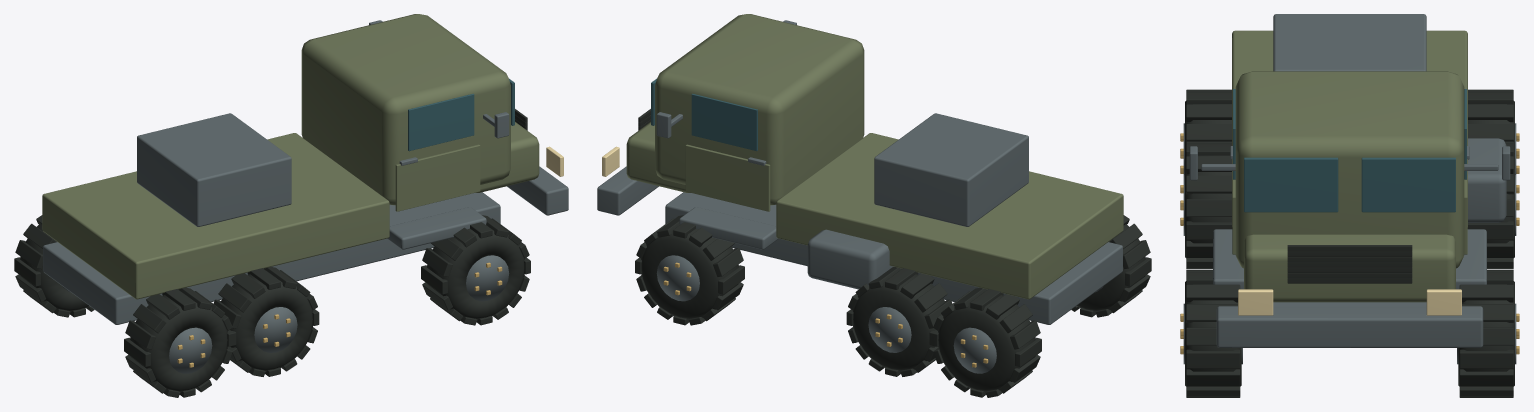
Rendered from truck.glb.
The picture shows the model from 3 angles, left to right: view 1: azimuth 30°, elevation 25°; view 2: azimuth 150°, elevation 25°; view 3: azimuth 270°, elevation 25°; orthographic projection. The views are drawn at different scales.
Visible parts, largest first — view 1: rear-bed, cab, launcher-pedestal, ladder-chassis, door-panel.001, tire.002, tire, tire.004, side-window.001, step.001, hood, front-bumper (+5 smaller); view 2: rear-bed, cab, launcher-pedestal, ladder-chassis, door-panel, tire.001, tire.005, tire.003, fuel-tank, side-window, step, hood (+6 smaller); view 3: cab, front-bumper, hood, launcher-pedestal, windshield, windshield.001, rear-bed, fuel-tank, step, step.001, tire.005, tire (+46 smaller).
Part boxes in pixels (x1,y1,x2,y2): rear-bed: [42, 133, 389, 299]; cab: [301, 14, 510, 205]; launcher-pedestal: [137, 113, 291, 226]; ladder-chassis: [43, 192, 500, 324]; door-panel.001: [395, 144, 480, 211]; tire.002: [130, 292, 227, 392]; tire: [427, 225, 524, 320]; tire.004: [220, 273, 313, 371]; side-window.001: [408, 93, 474, 151]; step.001: [387, 207, 486, 249]; hood: [475, 122, 539, 192]; front-bumper: [507, 166, 568, 215]; rear-bed: [776, 133, 1123, 299]; cab: [655, 14, 864, 205]; launcher-pedestal: [874, 113, 1028, 226]; ladder-chassis: [665, 192, 1122, 324]; door-panel: [685, 144, 770, 211]; tire.001: [938, 292, 1035, 392]; tire.005: [641, 225, 738, 320]; tire.003: [852, 273, 945, 371]; fuel-tank: [807, 229, 894, 289]; side-window: [691, 93, 757, 151]; step: [679, 207, 778, 249]; hood: [626, 122, 690, 192]; cab: [1235, 71, 1464, 268]; front-bumper: [1216, 306, 1483, 347]; hood: [1244, 234, 1455, 302]; launcher-pedestal: [1273, 14, 1426, 71]; windshield: [1361, 157, 1455, 212]; windshield.001: [1244, 157, 1338, 212]; rear-bed: [1232, 30, 1467, 226]; fuel-tank: [1468, 138, 1506, 222]; step: [1456, 229, 1486, 289]; step.001: [1213, 229, 1243, 289]; tire.005: [1458, 281, 1514, 386]; tire: [1185, 281, 1241, 386].
Bounding box in the file's own units: 2.68 × 1.31 × 1.44.
